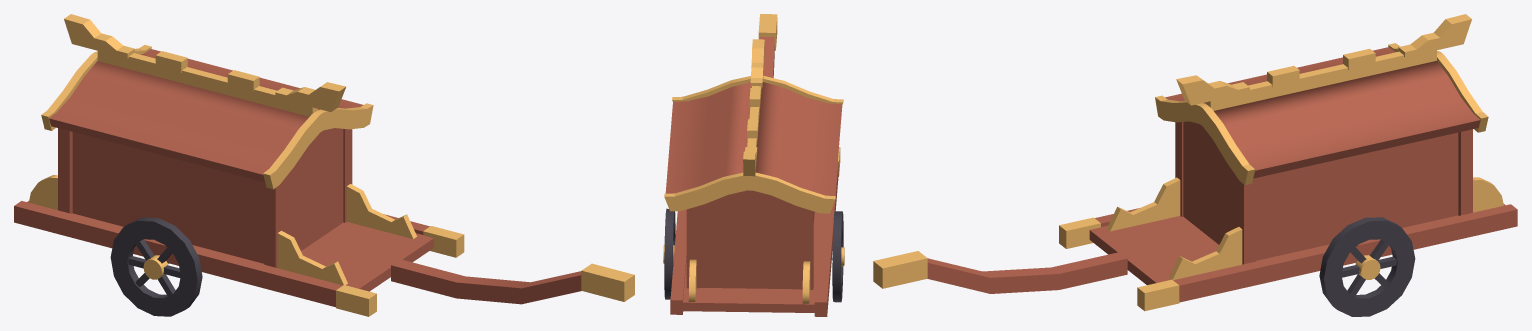
Rendered from car.glb.
3 renders of one model, left to right at view 1: azimuth 30°, elevation 25°; view 2: azimuth 150°, elevation 25°; view 3: azimuth 270°, elevation 25°, orthographic. The views are drawn at different scales.
Visible parts, largest first — view 1: Cube.032_709.027; view 2: Cube.032_709.027; view 3: Cube.032_709.027.
Boxes of the visible parts, left/top/right/bottom form: Cube.032_709.027: left=14, top=14, right=634, bottom=316; Cube.032_709.027: left=663, top=14, right=844, bottom=316; Cube.032_709.027: left=873, top=14, right=1517, bottom=316.
Bounding box in the file's own units: 24.94 × 15.48 × 39.49.
